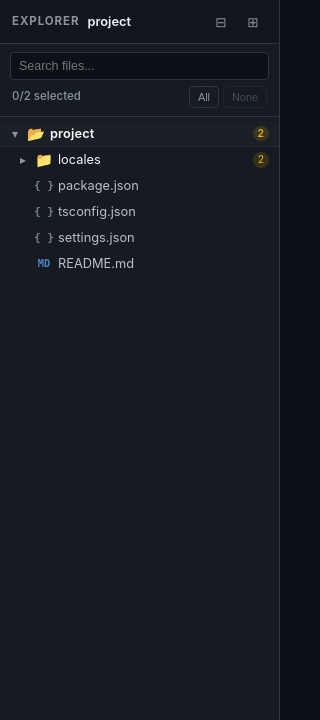
Test: ProjectExplorer › supports expanding and collapsing directories without navigating workspace
Expected: the text "en.json" is not shown
// Click to expand
Click the text "locales".
click(79, 160)  # box 58,152 -> 101,167
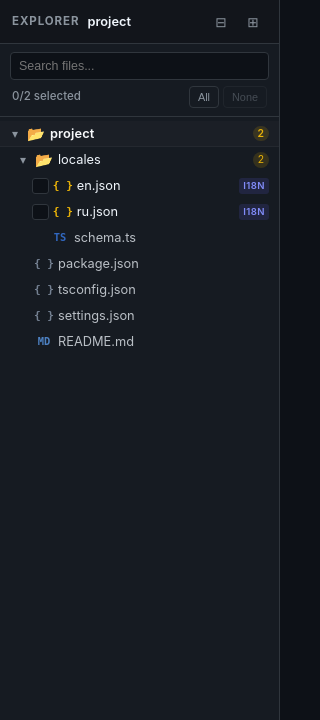
Now the text "en.json" is shown, box 77,178 -> 121,193
// Click to collapse
Click the text "locales".
click(79, 160)  # box 58,152 -> 101,167
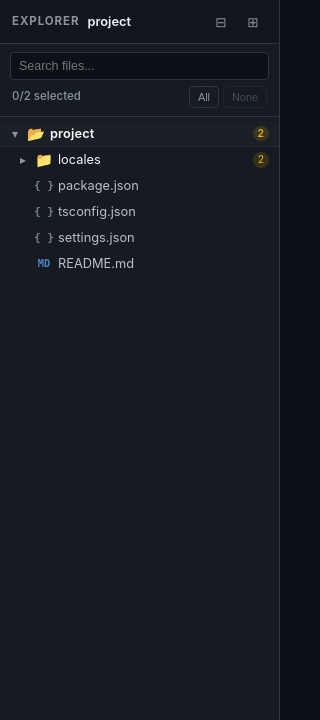
Now the text "en.json" is gone
